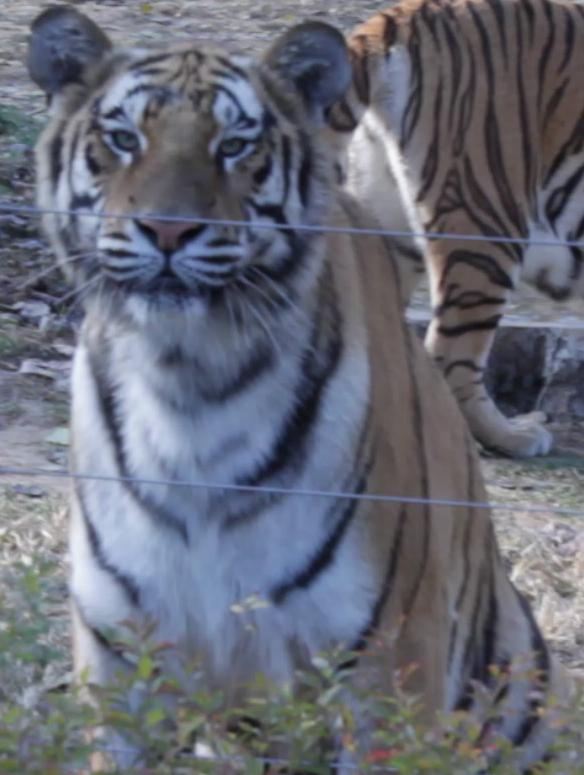tiger: (27, 7, 430, 684)
